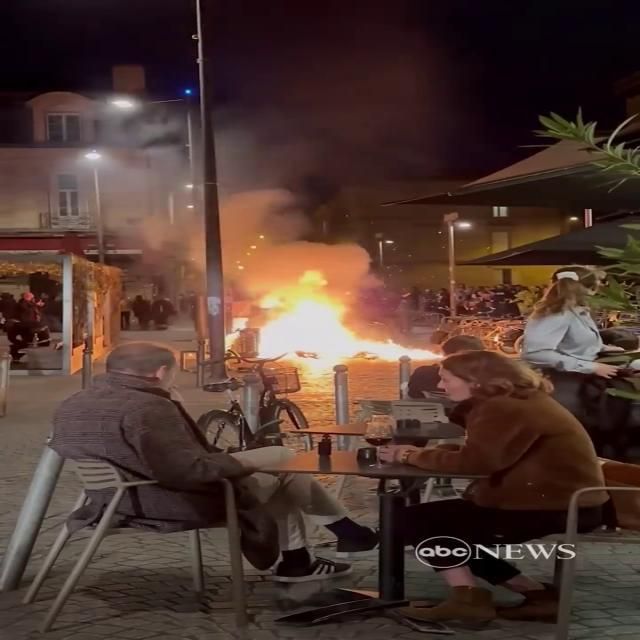Fire: (227, 274, 422, 367)
Smoke: (116, 1, 449, 291)
